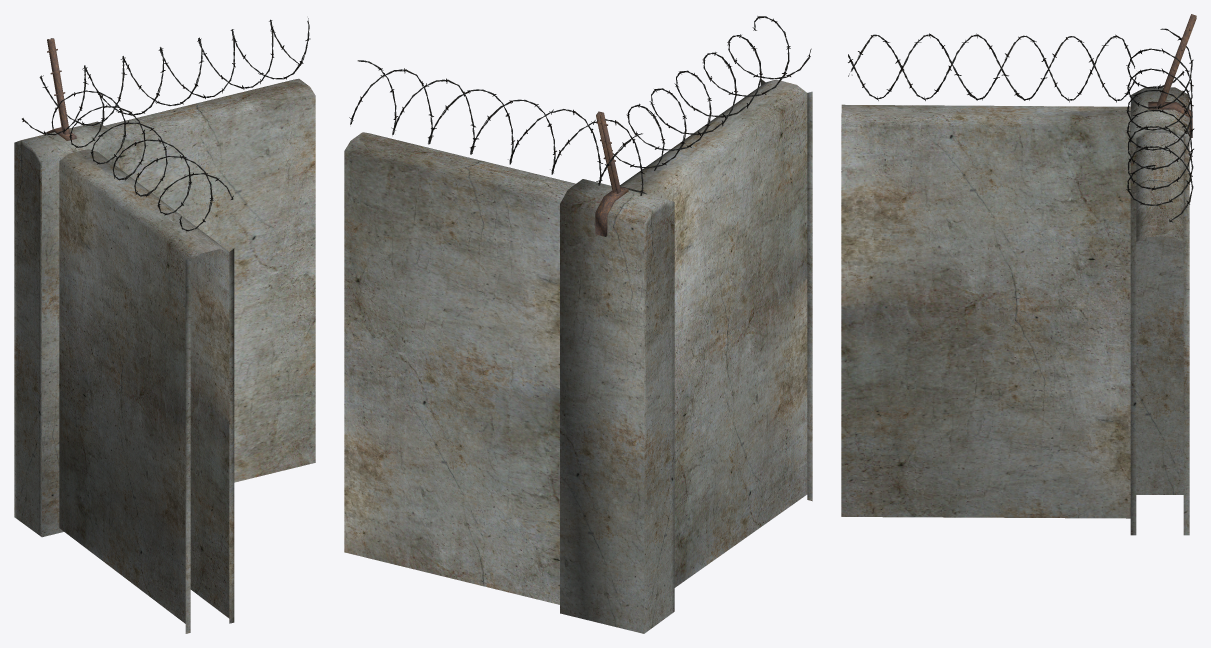
Rendered from PrisonCorner.fbx.
The picture shows the model from 3 angles, left to right: view 1: azimuth 30°, elevation 25°; view 2: azimuth 150°, elevation 25°; view 3: azimuth 270°, elevation 25°; orthographic projection. The views are drawn at different scales.
Parts seen in each view (by area): view 1: OutsideWall.005; view 2: OutsideWall.005; view 3: OutsideWall.005.
Part boxes in pixels (box(x1,y1,x2,y2)): OutsideWall.005: box(14, 18, 315, 633); OutsideWall.005: box(344, 16, 812, 633); OutsideWall.005: box(841, 14, 1196, 535).
Bounding box in the file's own units: 361 × 582 × 375.
